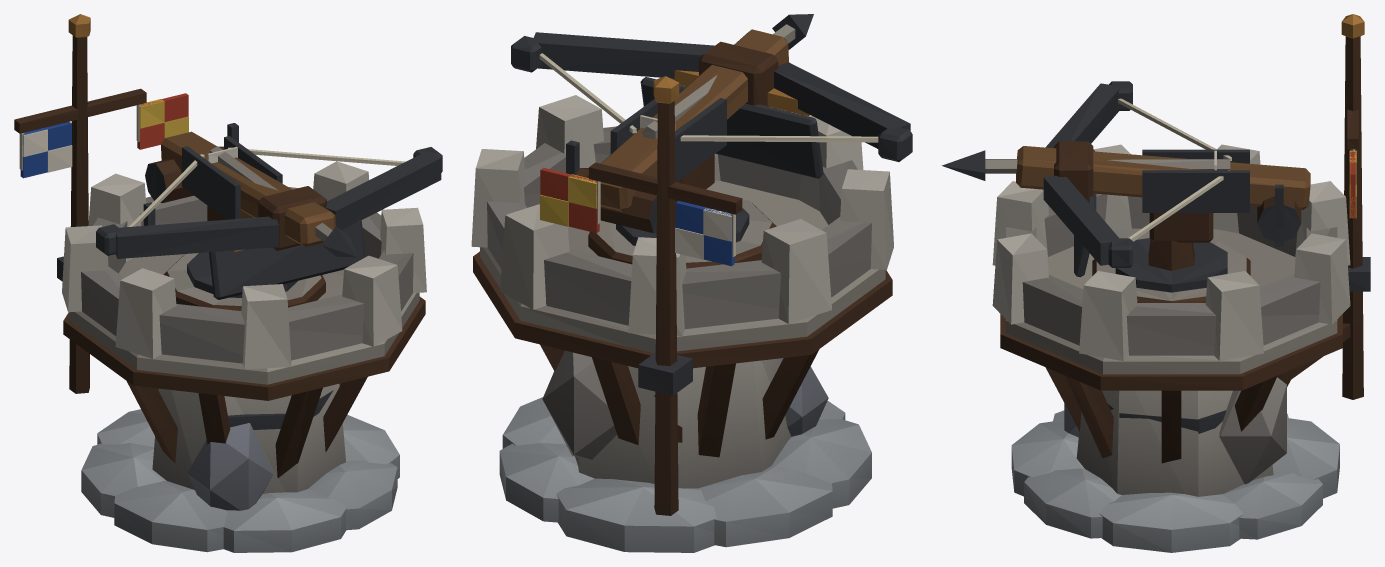
File: siege_perch.glb
The picture shows the model from 3 angles, left to right: view 1: azimuth 30°, elevation 25°; view 2: azimuth 150°, elevation 25°; view 3: azimuth 270°, elevation 25°; orthographic projection. The views are drawn at different scales.
Parts seen in each view (by area): view 1: siege_perch; view 2: siege_perch; view 3: siege_perch.
Boxes of the visible parts, x1,y1,x2,y2 form: siege_perch: (14, 14, 442, 552); siege_perch: (471, 14, 912, 552); siege_perch: (942, 14, 1370, 552).
Bounding box in the file's own units: 0.906 × 1.12 × 0.9814.
